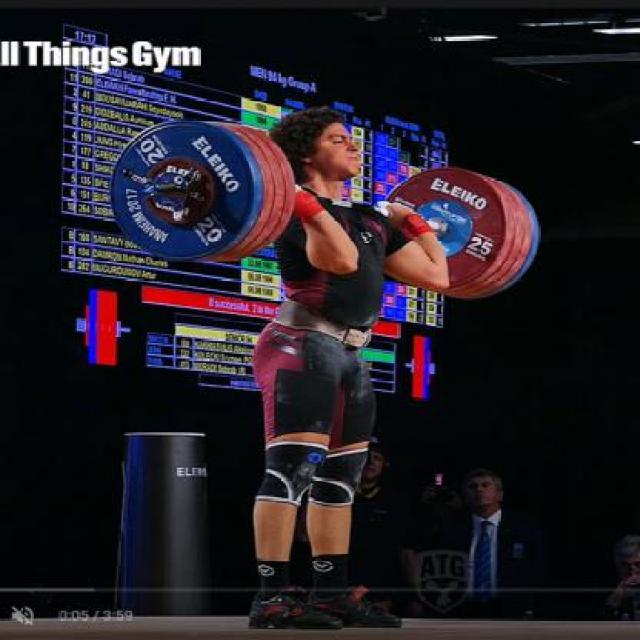barbell: (103, 114, 277, 271)
